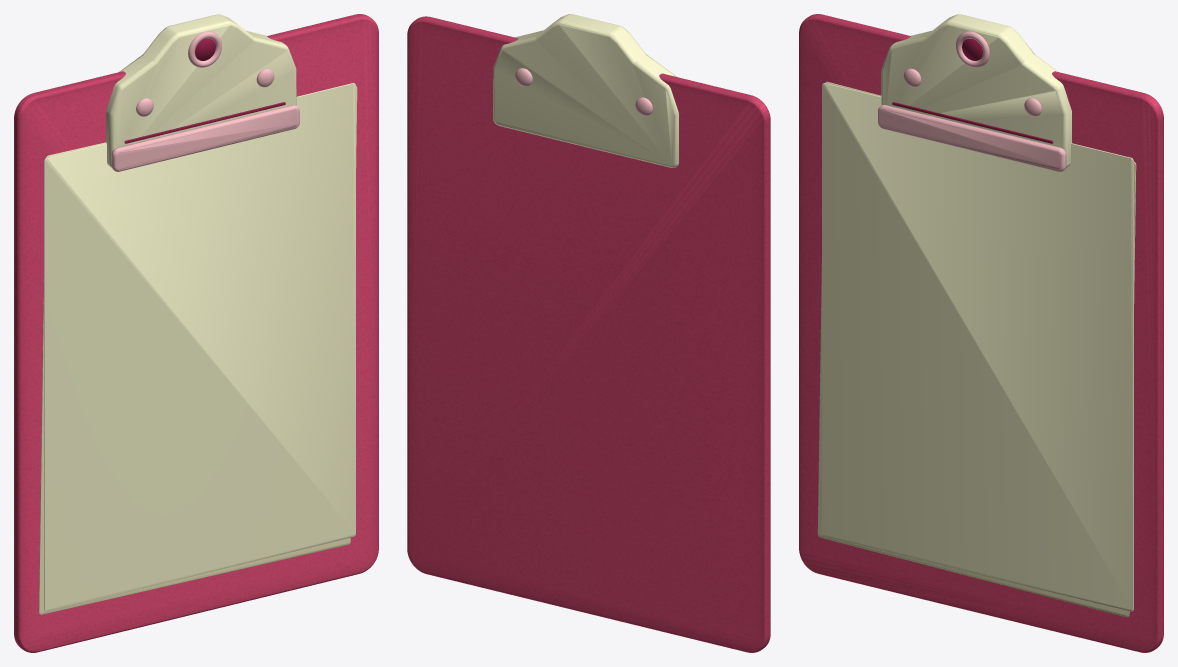
Rendered from Sembang_Clipboard.obj.
The picture shows the model from 3 angles, left to right: view 1: azimuth 30°, elevation 25°; view 2: azimuth 150°, elevation 25°; view 3: azimuth 330°, elevation 25°; orthographic projection.
Parts seen in each view (by area): view 1: Paper_Sheet, Board_Panel, Clip_Body, Clip_Jaw, Paper_Under_Sheet, Clip_Eyelet_Ring, Clip_Slit; view 2: Board_Panel, Clip_Body; view 3: Paper_Sheet, Board_Panel, Clip_Body, Clip_Jaw, Paper_Under_Sheet, Clip_Eyelet_Ring, Clip_Slit.
Part boxes in pixels (box(x1,y1,x2,y2)): Paper_Sheet: box(44, 83, 355, 611); Board_Panel: box(14, 14, 378, 652); Clip_Body: box(106, 14, 296, 167); Clip_Jaw: box(111, 105, 299, 171); Paper_Under_Sheet: box(39, 86, 357, 614); Clip_Eyelet_Ring: box(188, 31, 221, 67); Clip_Slit: box(124, 102, 285, 143); Board_Panel: box(407, 16, 770, 652); Clip_Body: box(493, 14, 678, 167); Paper_Sheet: box(822, 83, 1133, 611); Board_Panel: box(799, 14, 1163, 652); Clip_Body: box(881, 14, 1071, 167); Clip_Jaw: box(878, 105, 1066, 171); Paper_Under_Sheet: box(817, 81, 1136, 617); Clip_Eyelet_Ring: box(956, 31, 989, 67); Clip_Slit: box(892, 102, 1053, 143).
Size of the model in its own units: 3.6 by 5.61 by 0.3215.
Materials: 5 (1 with a texture image).
